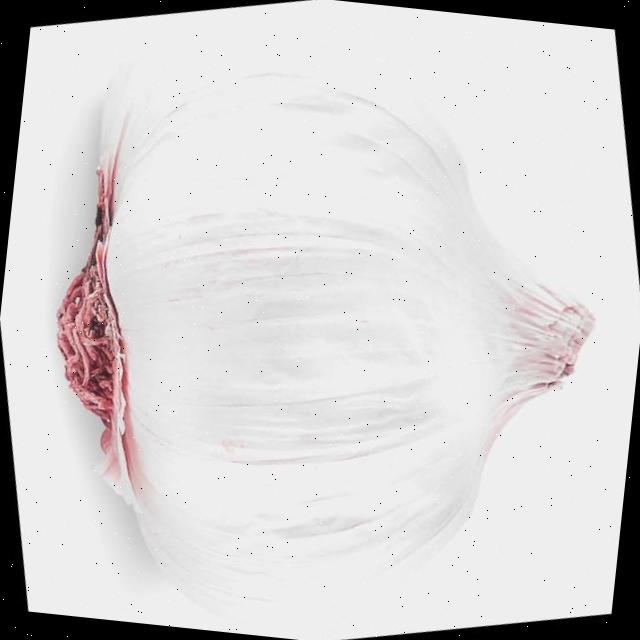garlic: (57, 78, 593, 614)
